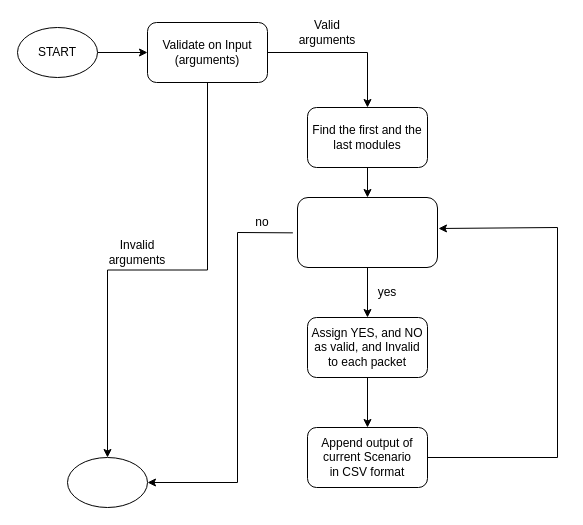
The diagram is 583 pixels wide and 525 high, and some of its shapes have lost their labels. Each missing label, with the box of its shape:
END: (66, 456, 148, 508)
While there still unique permutations of the modules: (296, 196, 438, 268)
